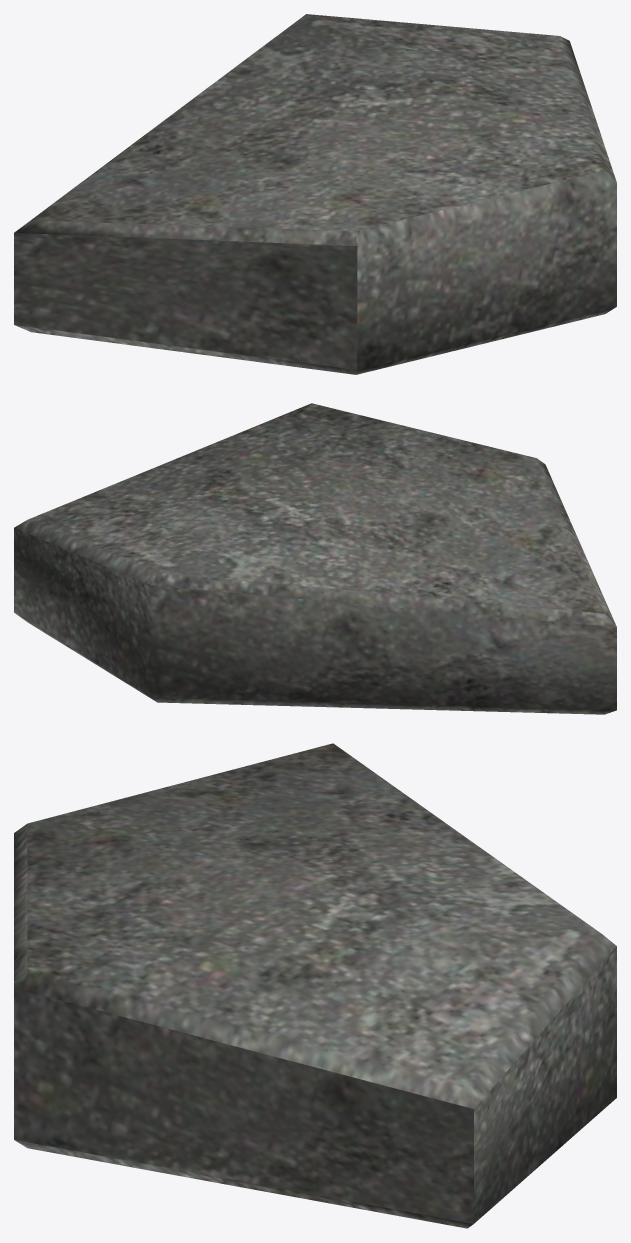
File: Stone_brick_floor_2.FBX
3 views of the same model, one above another, from view 1: azimuth 30°, elevation 25°; view 2: azimuth 150°, elevation 25°; view 3: azimuth 270°, elevation 25° (orthographic). The views are drawn at different scales.
Visible parts, largest first — view 1: Line01; view 2: Line01; view 3: Line01.
Boxes of the visible parts, x1,y1,x2,y2 form: Line01: (14, 14, 616, 374); Line01: (14, 403, 616, 714); Line01: (14, 743, 616, 1228).
Bounding box in the file's own units: 104 × 23.28 × 72.37.
1 material, 1 textured.
